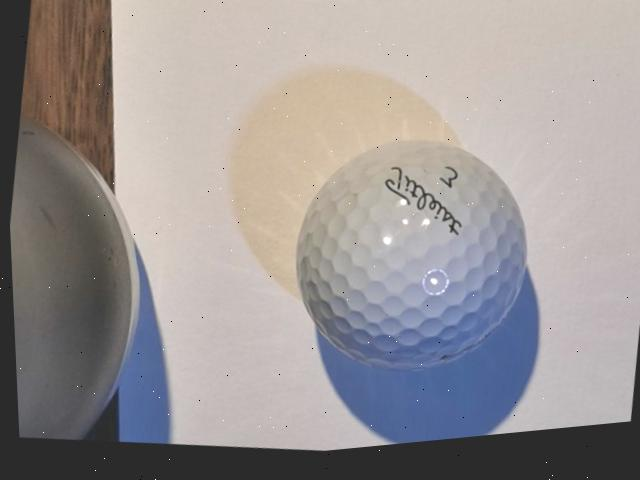Ball: (274, 121, 545, 404)
Titleist: (376, 167, 469, 251)
